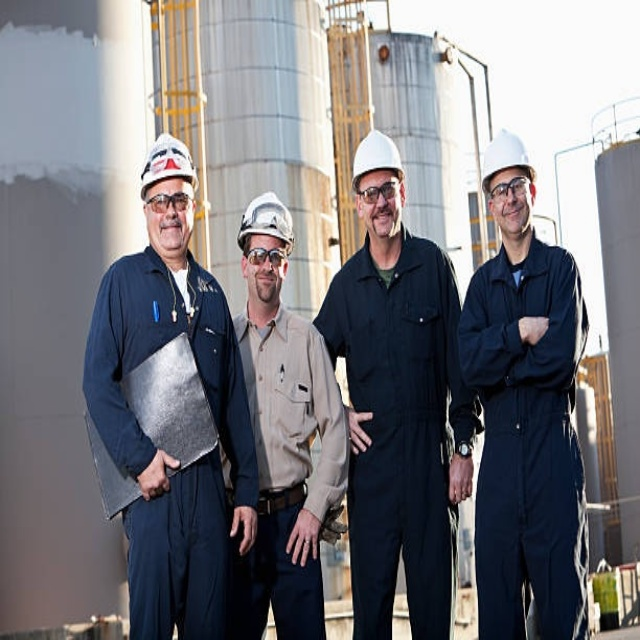Gafas: (487, 177, 534, 201), (247, 243, 287, 271), (146, 191, 192, 209), (357, 182, 401, 198)
Sin_guantes: (136, 442, 183, 504), (286, 507, 323, 563), (445, 453, 474, 507), (345, 406, 376, 455), (229, 508, 259, 555)
Sin_mascara: (369, 209, 397, 237), (157, 221, 183, 243), (502, 202, 527, 224), (254, 275, 275, 295)
